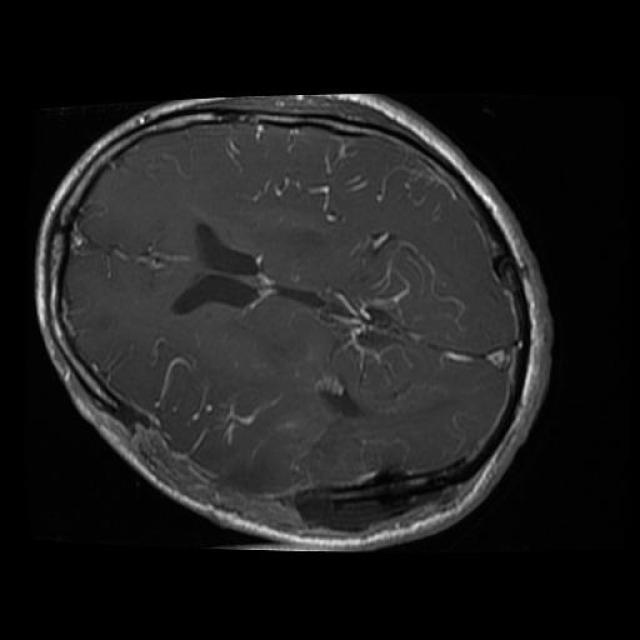Glioma: (130, 357, 327, 530)
